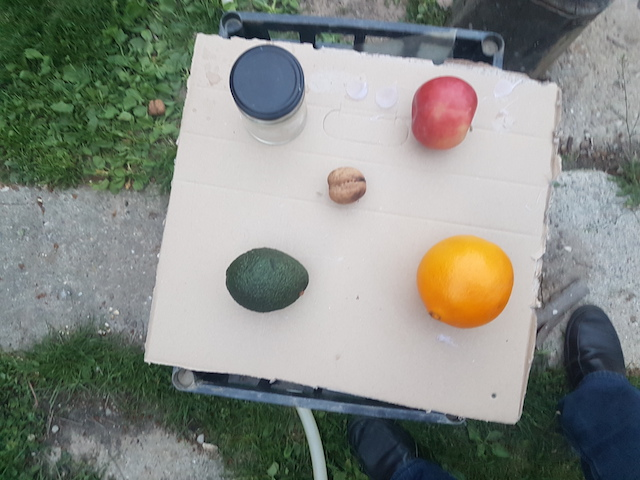apple: (403, 73, 481, 153)
avocado: (226, 246, 311, 313)
nut: (324, 166, 367, 204)
orange: (416, 233, 516, 331)
recipient: (227, 42, 306, 117)
